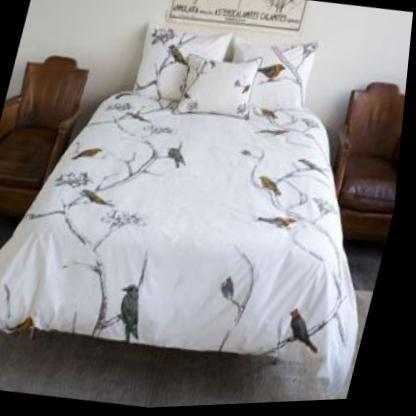Bed: (0, 26, 365, 403)
Chair: (313, 78, 409, 258), (0, 45, 95, 226)
